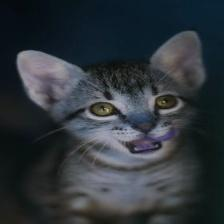kedo: (19, 32, 204, 223)
